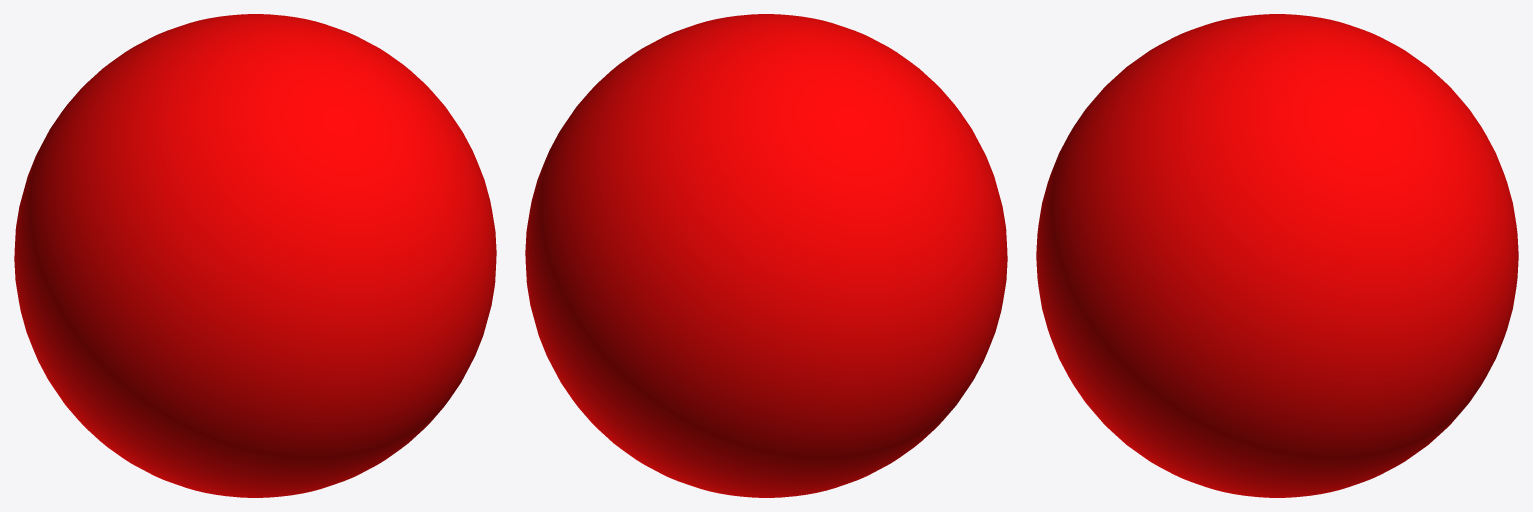
Rendered from Boss_MainCharacter.FBX.
3 renders of one model, left to right at view 1: azimuth 30°, elevation 25°; view 2: azimuth 150°, elevation 25°; view 3: azimuth 270°, elevation 25°, orthographic.
Parts seen in each view (by area): view 1: body; view 2: body; view 3: body.
Part boxes in pixels (<box>): body: <box>14,14,496,497</box>; body: <box>525,14,1007,497</box>; body: <box>1036,14,1518,497</box>.
Size of the model in its own units: 148 by 149 by 148.
